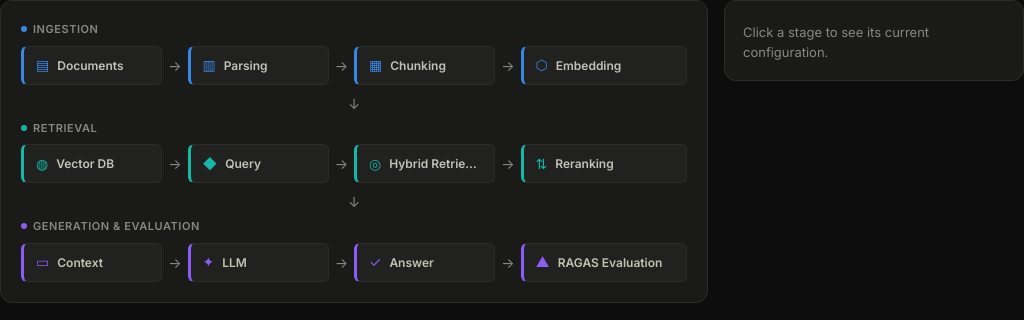
RagPipelineFlow › clicking a stage shows its real detail rows
The image size is (1024, 320).
Click the button "▦ Chunking": point(425, 65) [354,46,495,84]
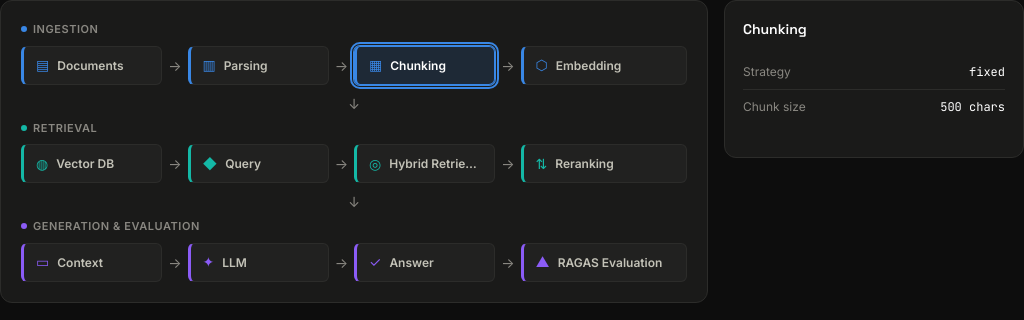
Expected: the text "Strategy" is shown, [743,63,791,81]
Expected: the text "fixed" is shown, [969,63,1005,81]
Expected: the text "Chunk size" is shown, [743,98,806,116]
